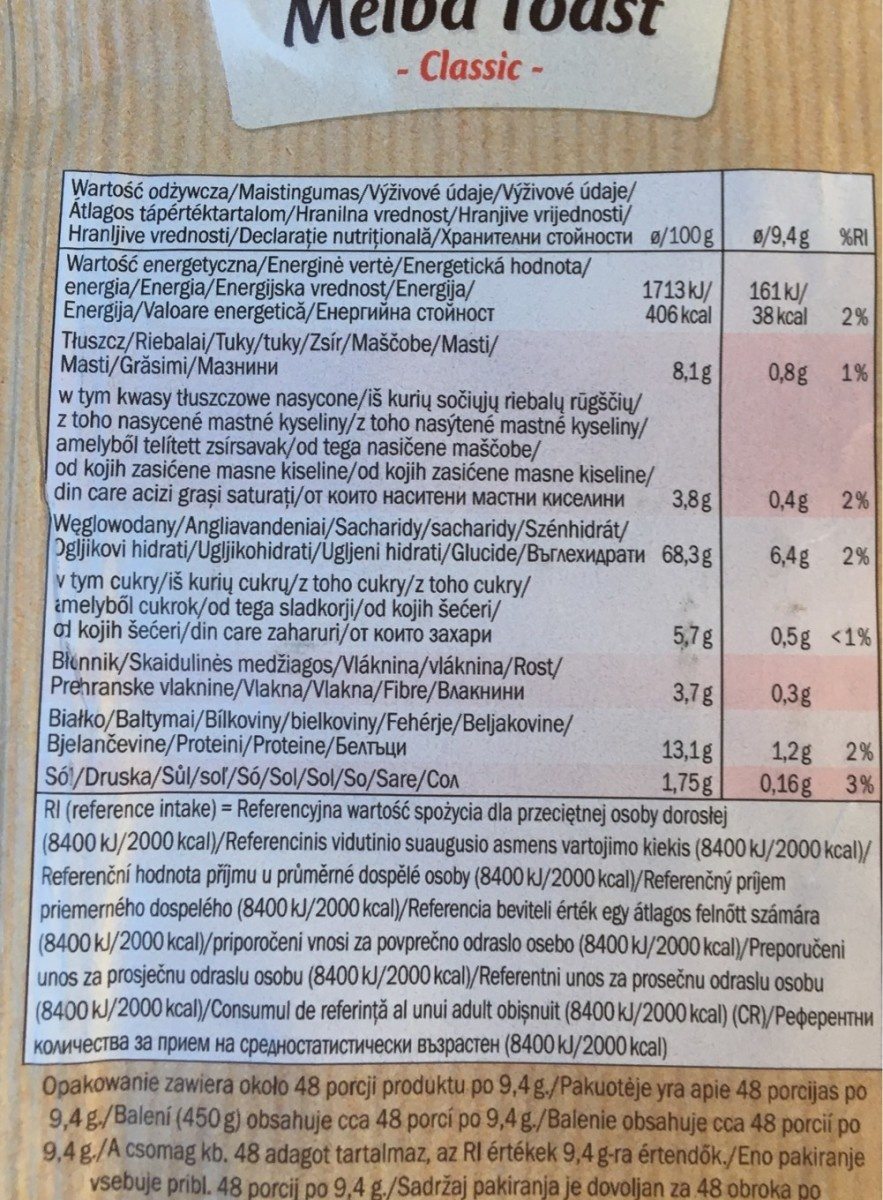column: (47, 255, 632, 792), (644, 224, 715, 795), (748, 217, 816, 797), (825, 217, 874, 799)
table: (38, 164, 883, 800)
